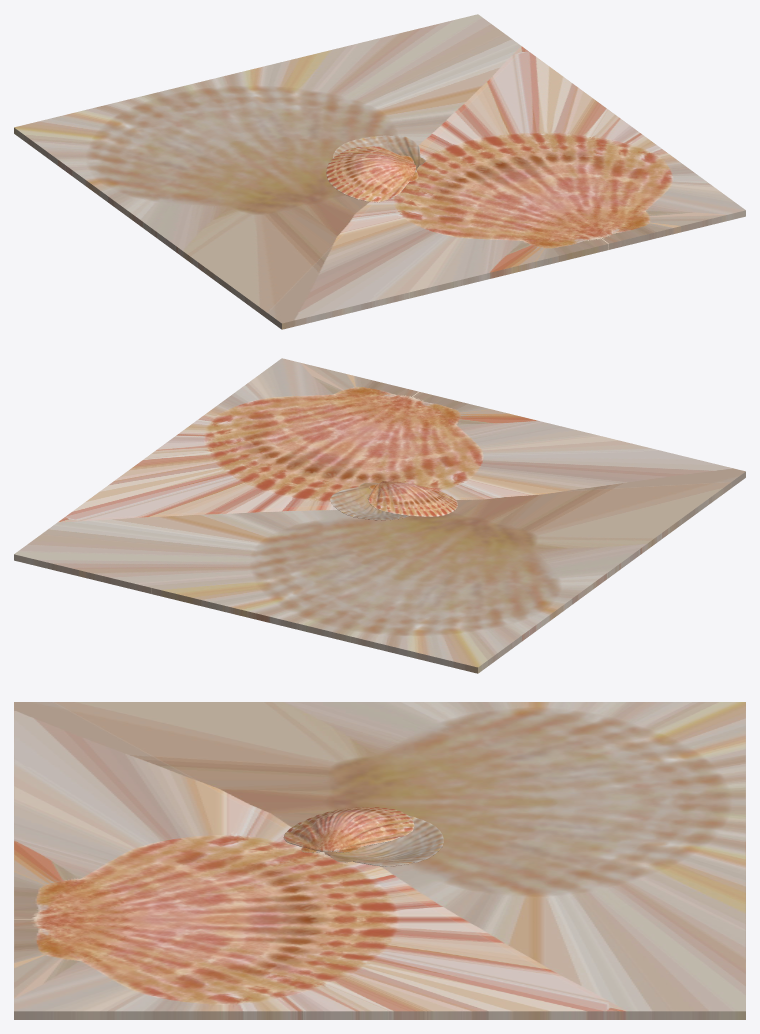
The picture shows the model from 3 angles, top to bottom: view 1: azimuth 30°, elevation 25°; view 2: azimuth 150°, elevation 25°; view 3: azimuth 270°, elevation 25°; orthographic projection. The views are drawn at different scales.
Parts seen in each view (by area): view 1: seashell_obj; view 2: seashell_obj; view 3: seashell_obj.
Part boxes in pixels (box(x1,y1,x2,y2)): seashell_obj: box(14, 14, 745, 329); seashell_obj: box(14, 358, 745, 673); seashell_obj: box(14, 702, 745, 1019).
Bounding box in the file's own units: 479 × 27.19 × 479.
1 material, 1 textured.
